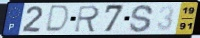2: (22, 5, 45, 33)
3: (156, 5, 177, 32)
7: (104, 4, 126, 34)
D: (43, 4, 71, 34)
R: (73, 5, 102, 34)
S: (128, 4, 155, 34)
